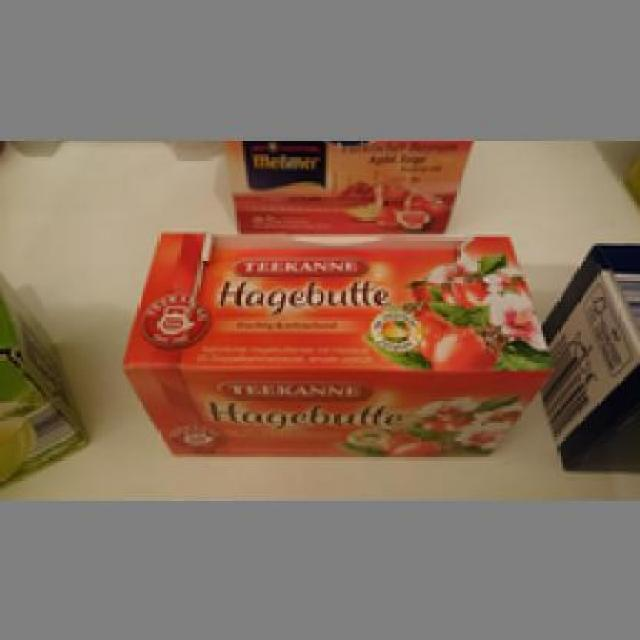Tea: (116, 232, 550, 454), (217, 140, 474, 229)
